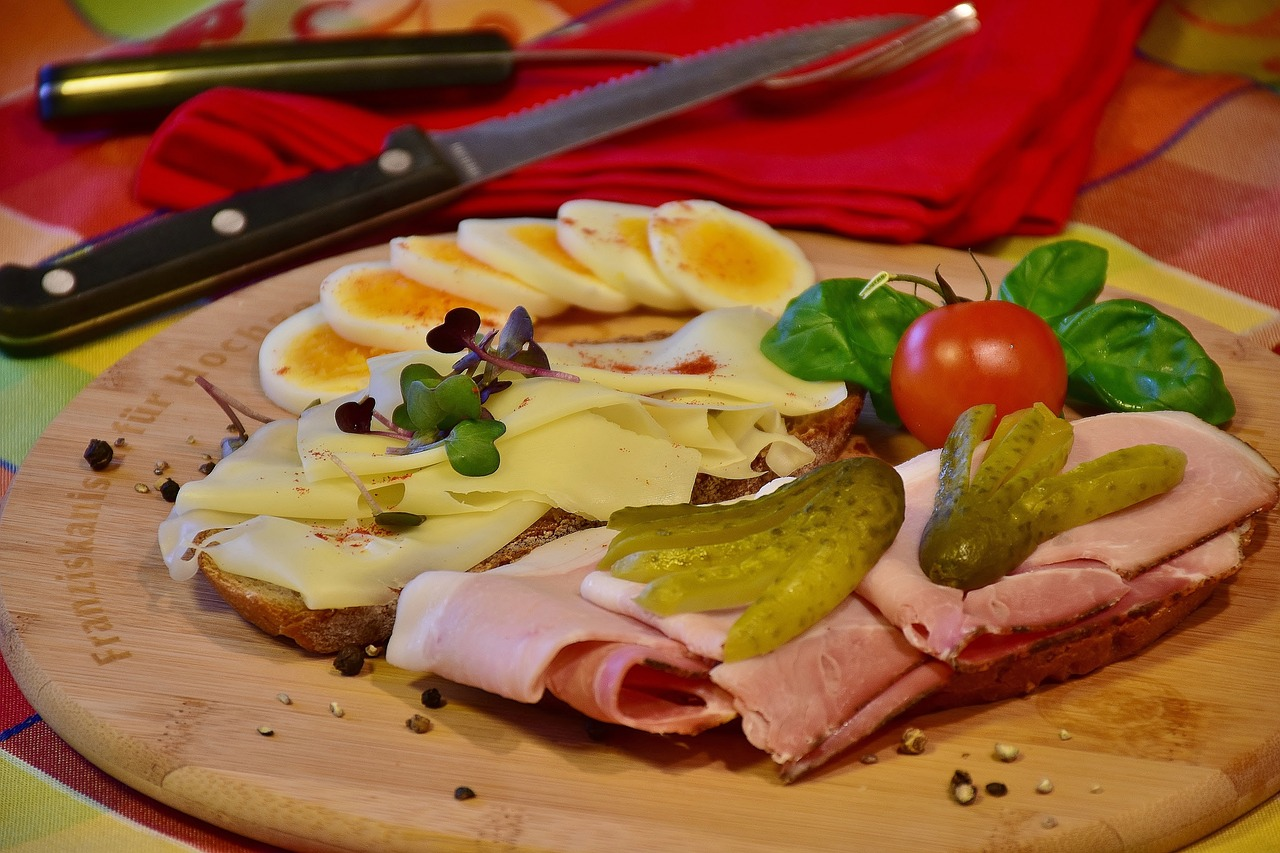knife: (12, 6, 942, 371)
